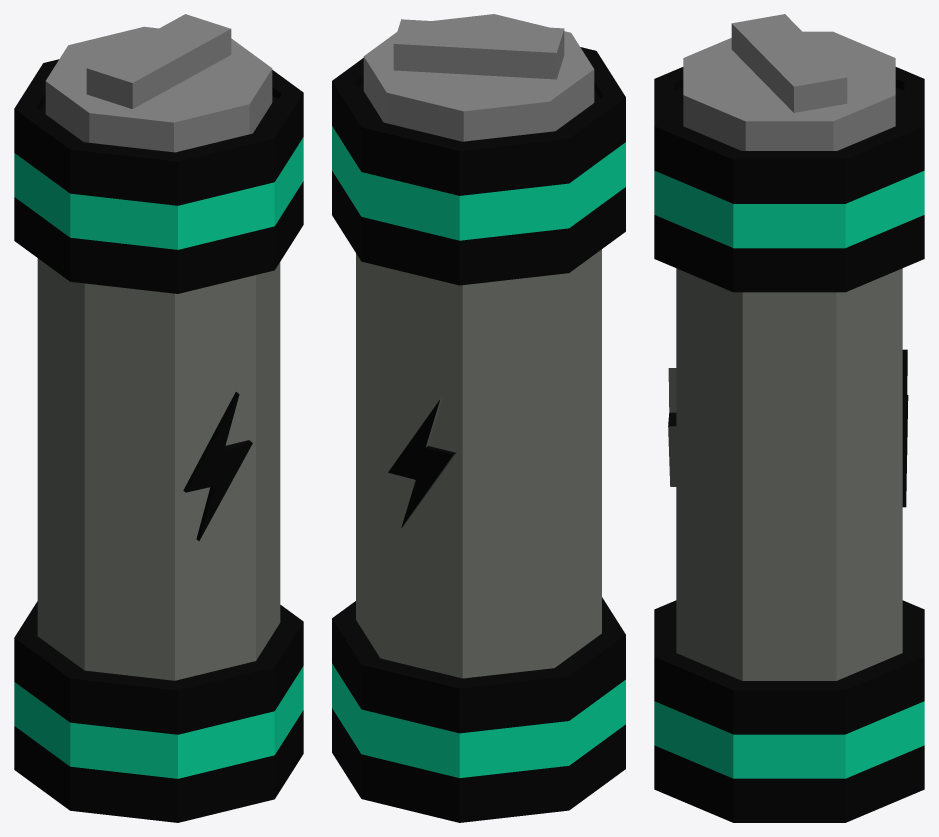
File: EnergyCell.fbx
3 views of the same model, side by side, from view 1: azimuth 30°, elevation 25°; view 2: azimuth 150°, elevation 25°; view 3: azimuth 270°, elevation 25° (orthographic).
Visible parts, largest first — view 1: Circle.001; view 2: Circle.001; view 3: Circle.001.
Boxes of the visible parts, x1,y1,x2,y2 form: Circle.001: [14, 14, 303, 822]; Circle.001: [332, 14, 625, 822]; Circle.001: [654, 14, 924, 822].
Bounding box in the file's own units: 36.96 × 36.96 × 108.
